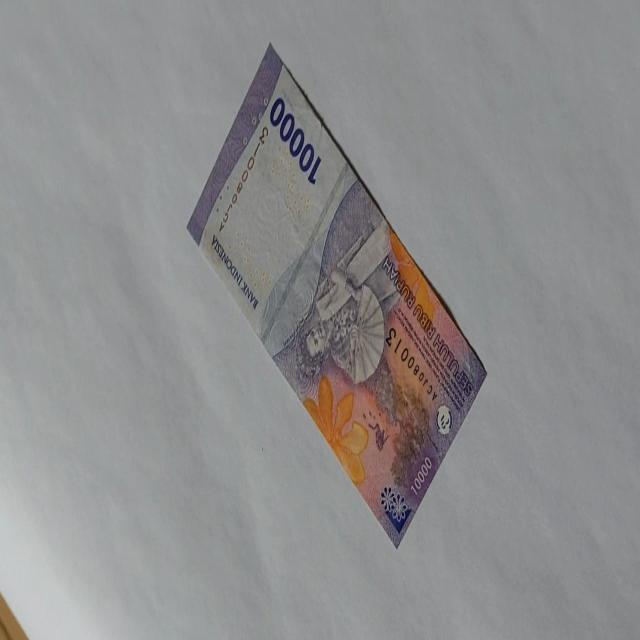Kertas: (186, 41, 488, 550), (269, 94, 322, 186)
